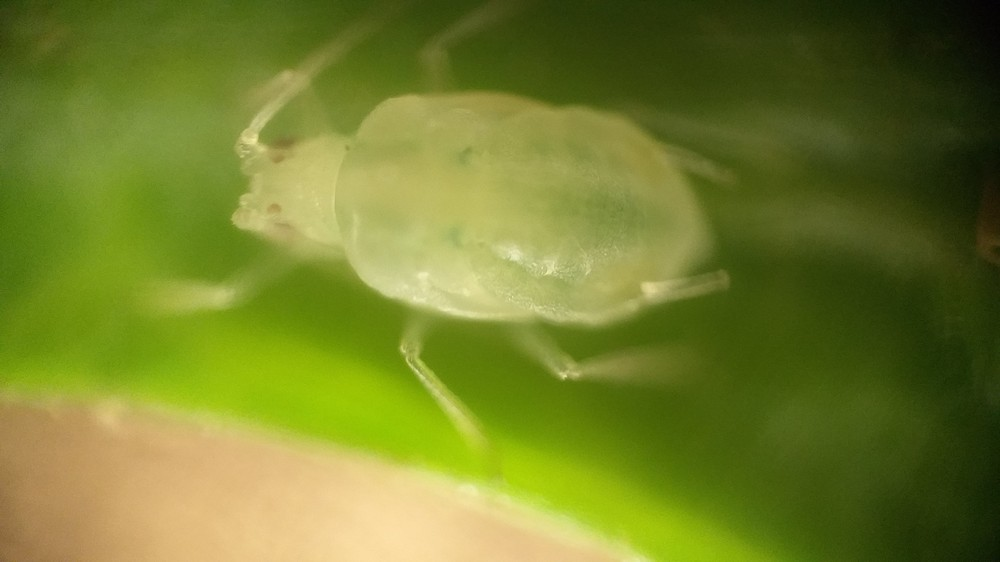Pulgon: (133, 8, 856, 475)
